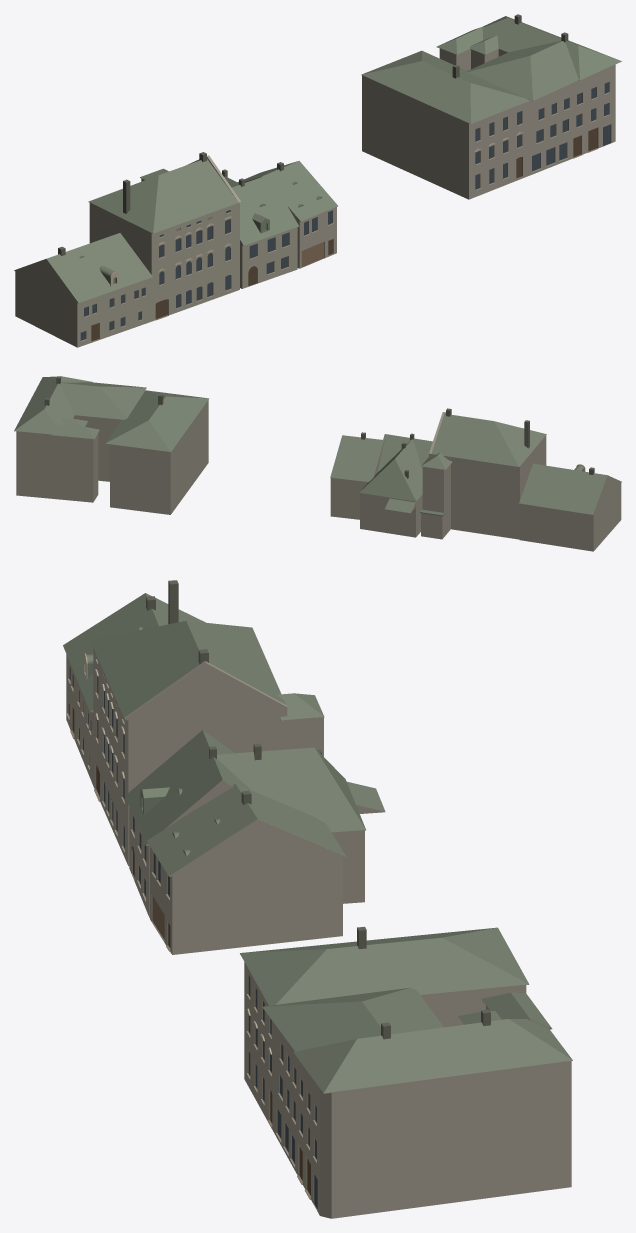
File: claude-v1.glb
3 views of the same model, one above another, from view 1: azimuth 30°, elevation 25°; view 2: azimuth 150°, elevation 25°; view 3: azimuth 270°, elevation 25° (orthographic). The views are drawn at different scales.
Visible parts, largest first — view 1: body, front; view 2: body; view 3: body, front.
Part boxes in pixels (x1,y1,x2,y2): body: (14, 14, 621, 347); front: (77, 64, 615, 347); body: (14, 376, 621, 551); body: (63, 580, 572, 1218); front: (66, 648, 319, 1215).
Size of the model in its own units: 105 by 19.3 by 43.86.
